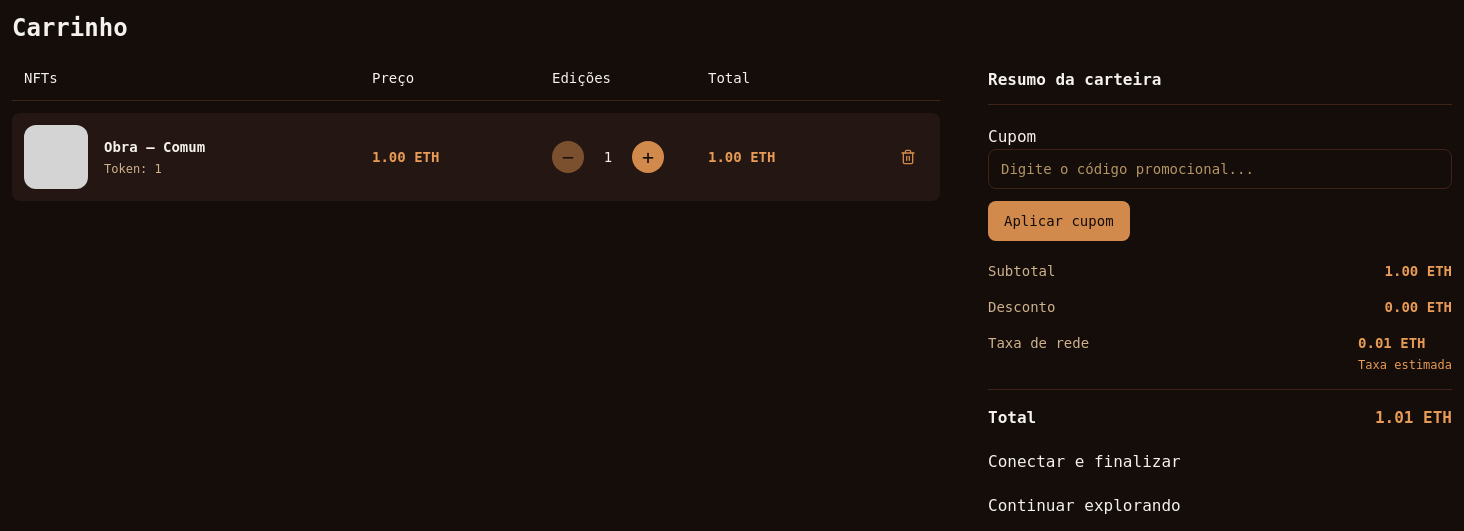
it: associa a mensagem de cupom inválido ao campo
expect the text "1.01 ETH" is shown: met, box [1375, 406, 1452, 430]
In the field labelled "Cupom": (1220, 169) [988, 149, 1452, 189], type "INVALIDO"
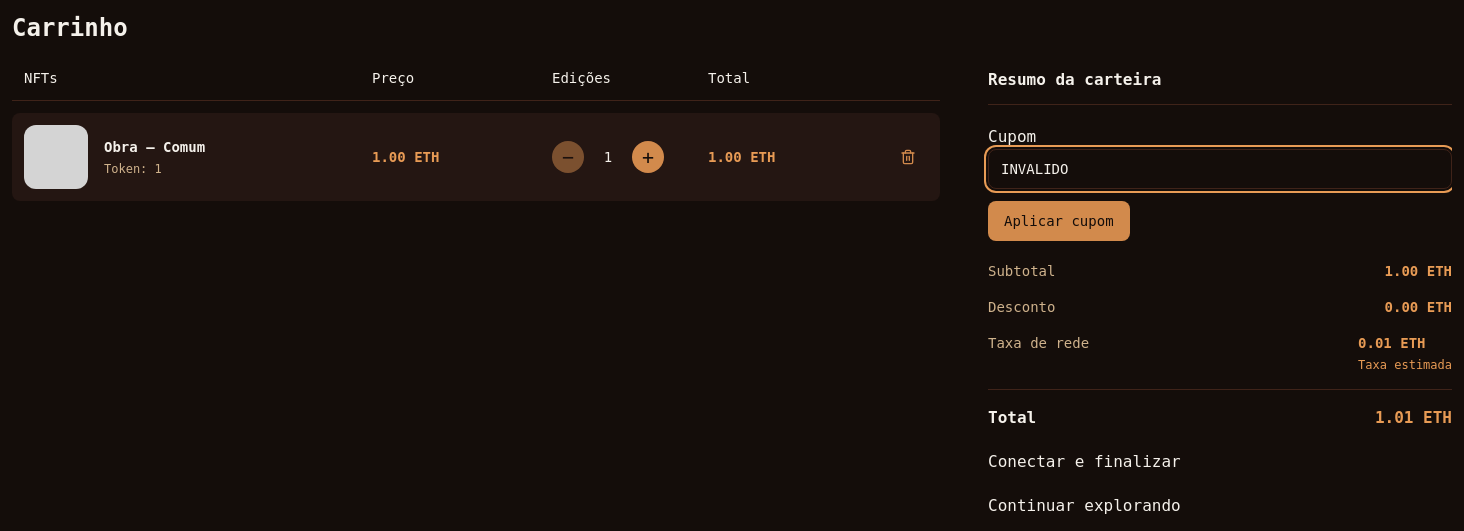
Click the button "Aplicar cupom": (1059, 221) [988, 201, 1130, 241]
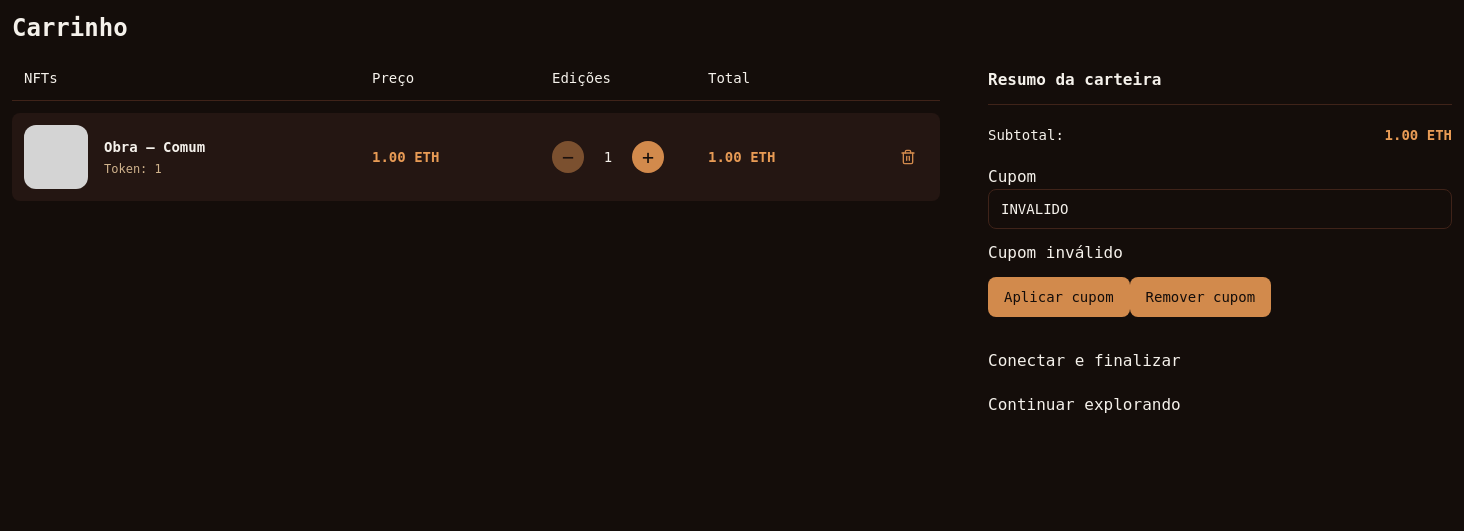
expect the message reads "Cupom inválido": met, box [988, 243, 1123, 262]
